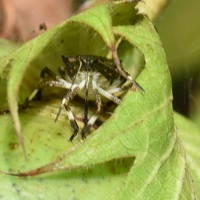insect: (19, 55, 136, 141)
